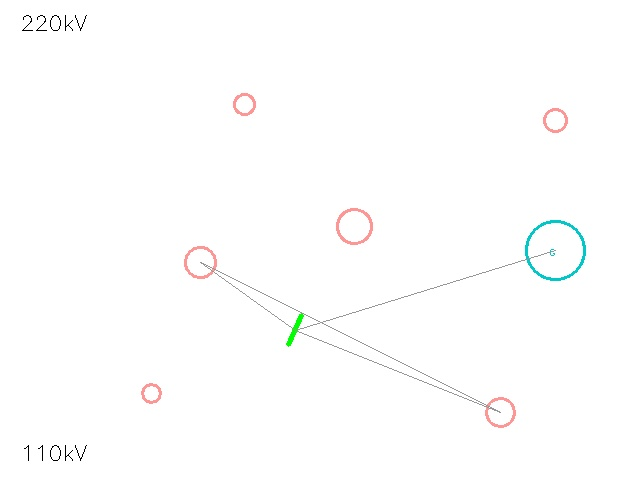busbar: (275, 310, 315, 350)
current_transformer: (169, 231, 231, 293)
fuse: (320, 192, 388, 260), (133, 375, 169, 411)
generator: (526, 221, 584, 279)
load_break_switch: (224, 84, 264, 124)
reactor: (472, 384, 528, 440)
voltage_transformer: (532, 97, 578, 143)
